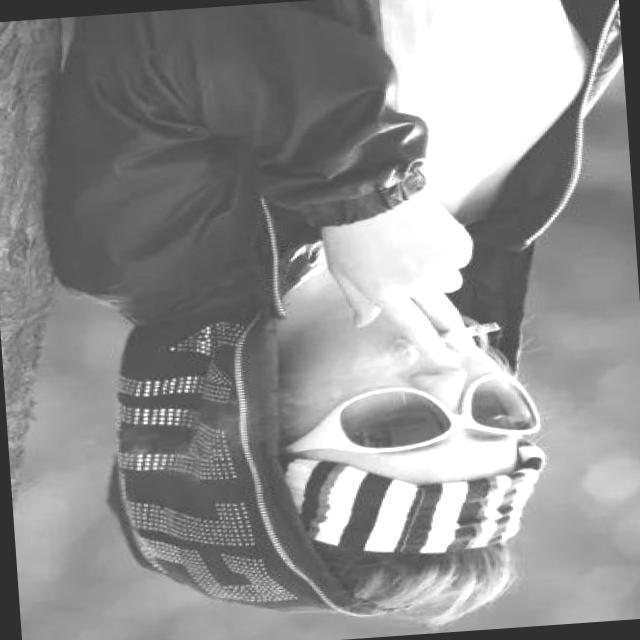smoke: (393, 308, 512, 364)
